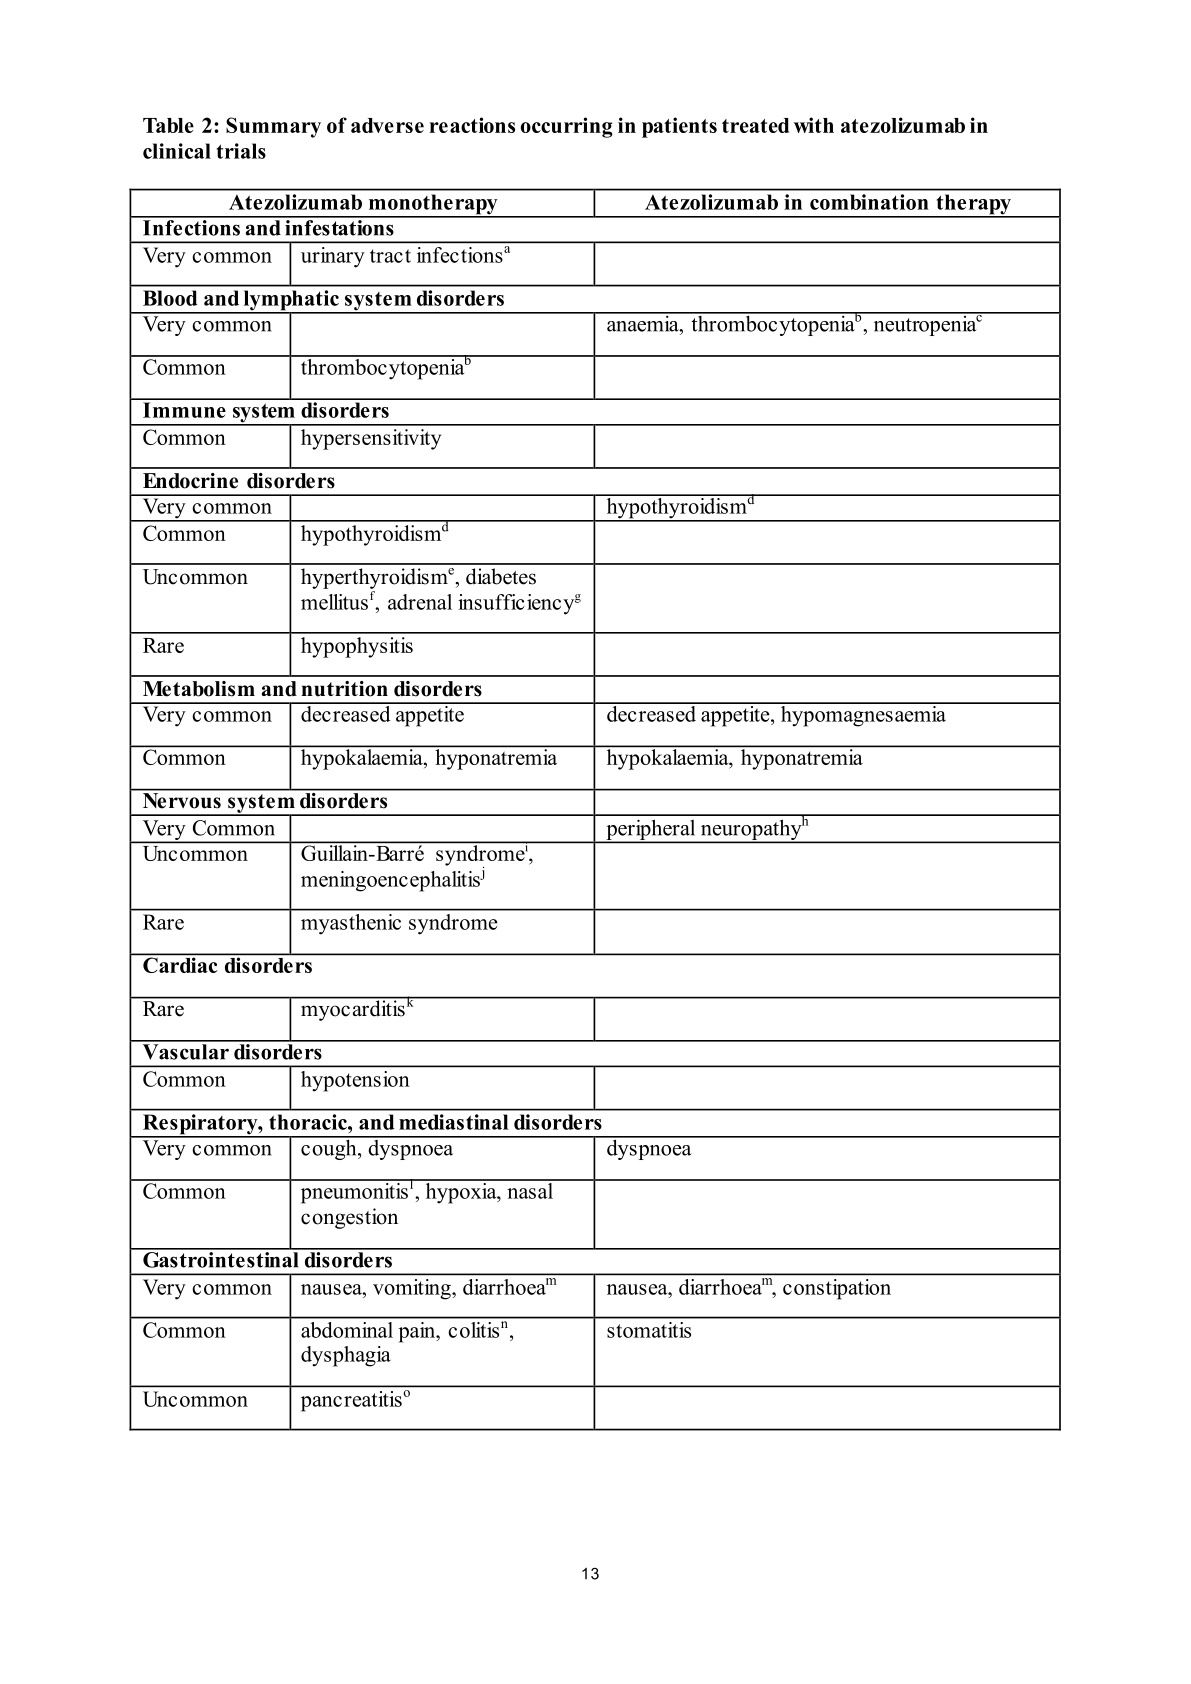merged_cells: (128, 187, 1062, 1431)
